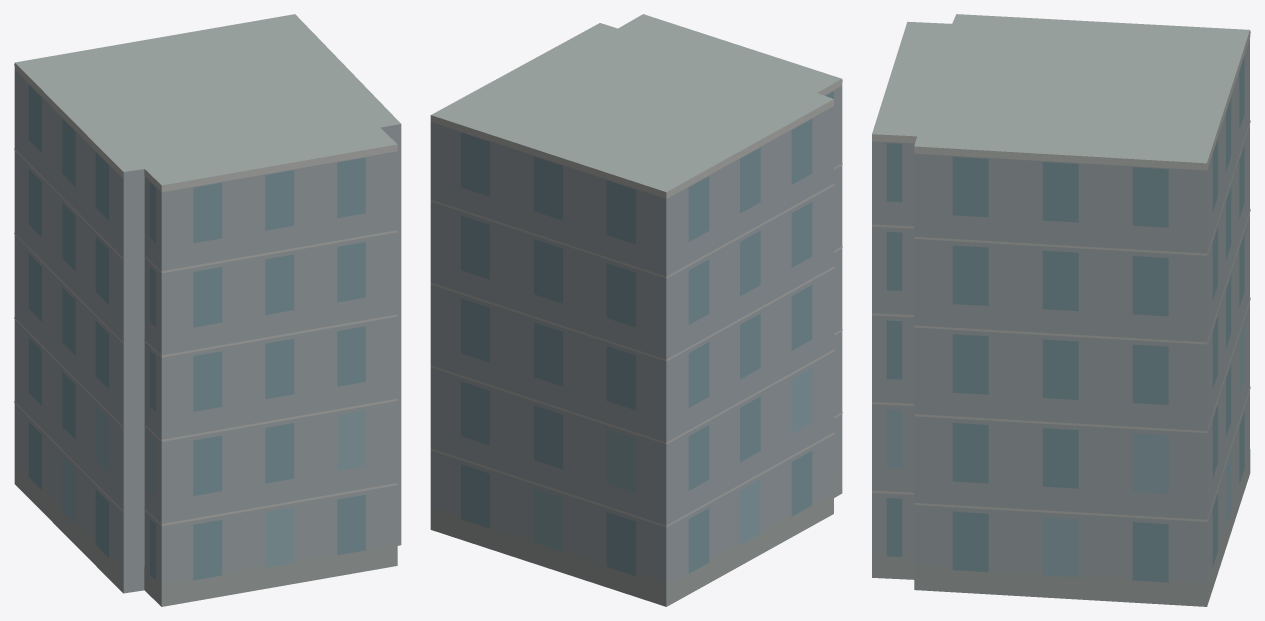
Rendered from survey-upis-32656499.glb.
The picture shows the model from 3 angles, left to right: view 1: azimuth 30°, elevation 25°; view 2: azimuth 150°, elevation 25°; view 3: azimuth 270°, elevation 25°; orthographic projection. The views are drawn at different scales.
Visible parts, largest first — view 1: survey-upis-32656499.tmp; view 2: survey-upis-32656499.tmp; view 3: survey-upis-32656499.tmp.
Part boxes in pixels (x1,y1,x2,y2): survey-upis-32656499.tmp: (14, 14, 401, 606); survey-upis-32656499.tmp: (430, 14, 842, 606); survey-upis-32656499.tmp: (872, 14, 1250, 606).
Bounding box in the file's own units: 10.86 × 15 × 11.62.
